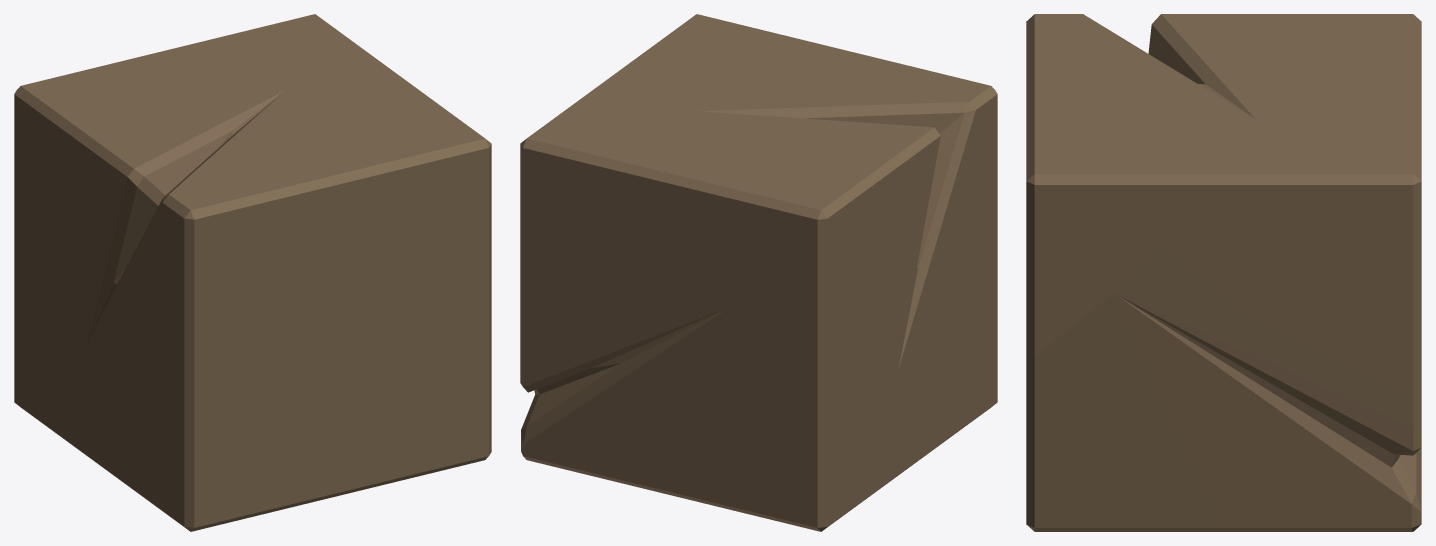
The model's file is ironcube3.fbx.
3 renders of one model, left to right at view 1: azimuth 30°, elevation 25°; view 2: azimuth 150°, elevation 25°; view 3: azimuth 270°, elevation 25°, orthographic. The views are drawn at different scales.
Parts seen in each view (by area): view 1: ironcube3; view 2: ironcube3; view 3: ironcube3.
Part boxes in pixels (box(x1,y1,x2,y2)): ironcube3: box(14, 14, 491, 531); ironcube3: box(520, 14, 997, 531); ironcube3: box(1026, 14, 1421, 531).
Bounding box in the file's own units: 0.9799 × 0.9681 × 0.9681.
